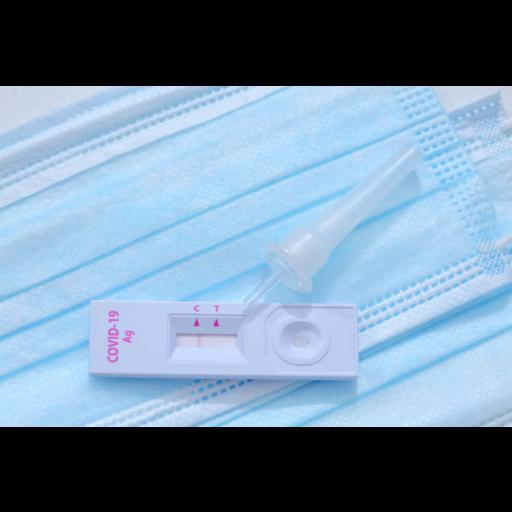Neg: (90, 300, 360, 374)
